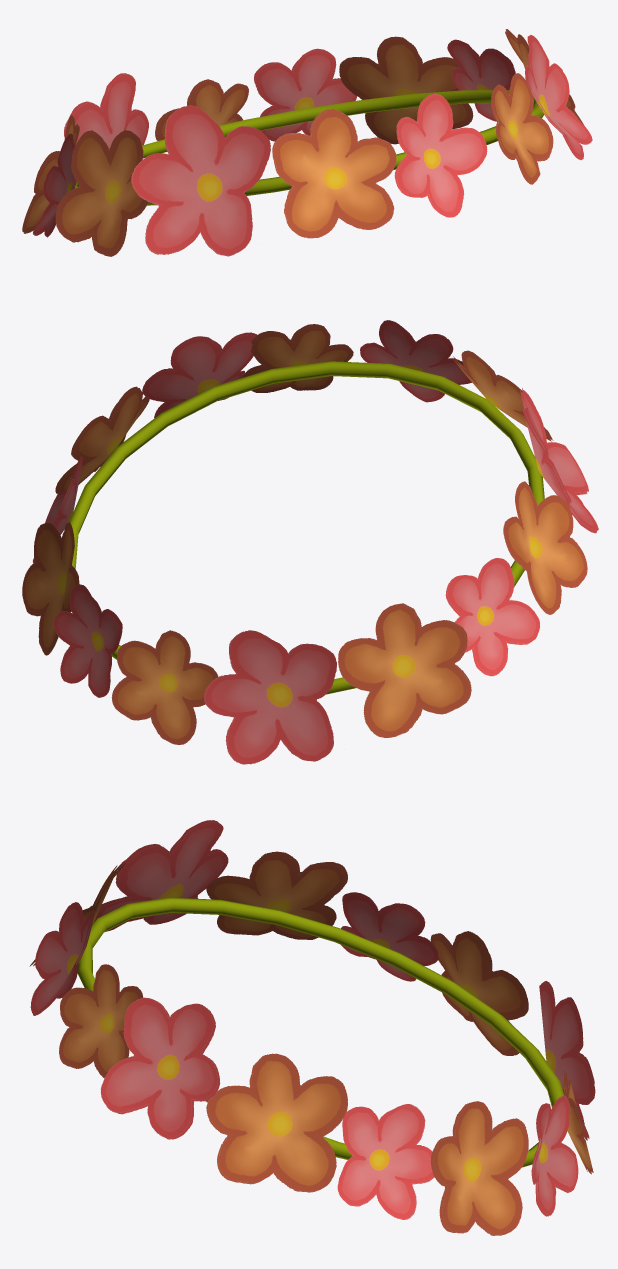
The model's file is Hat_Courone_de_fleur.fbx.
3 renders of one model, top to bottom at view 1: azimuth 30°, elevation 25°; view 2: azimuth 150°, elevation 25°; view 3: azimuth 270°, elevation 25°, orthographic. The views are drawn at different scales.
Parts seen in each view (by area): view 1: Courone_de_fleur; view 2: Courone_de_fleur; view 3: Courone_de_fleur.
Boxes of the visible parts, <box> form: Courone_de_fleur: <box>22,29,592,256</box>; Courone_de_fleur: <box>22,320,598,764</box>; Courone_de_fleur: <box>29,820,595,1235</box>.
Bounding box in the file's own units: 220 × 117 × 207.
